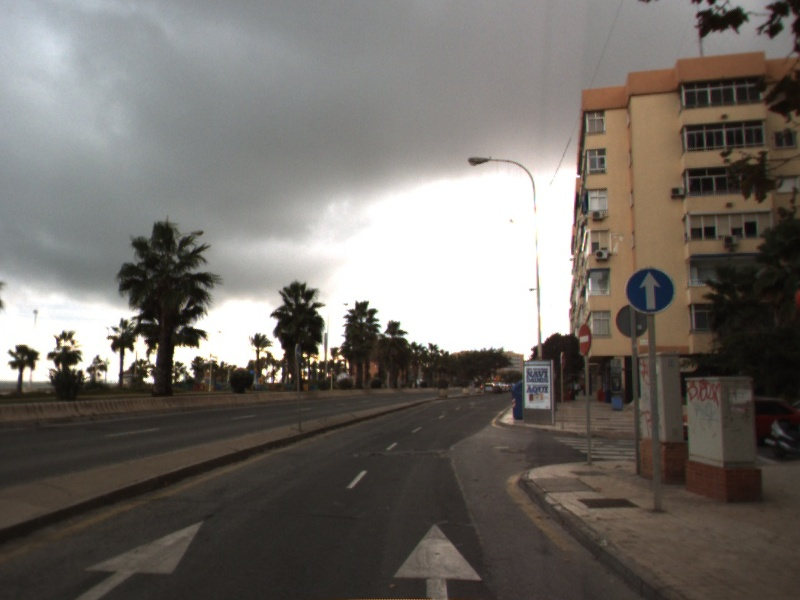STRAIGHT: (68, 518, 207, 600), (391, 521, 485, 600)
